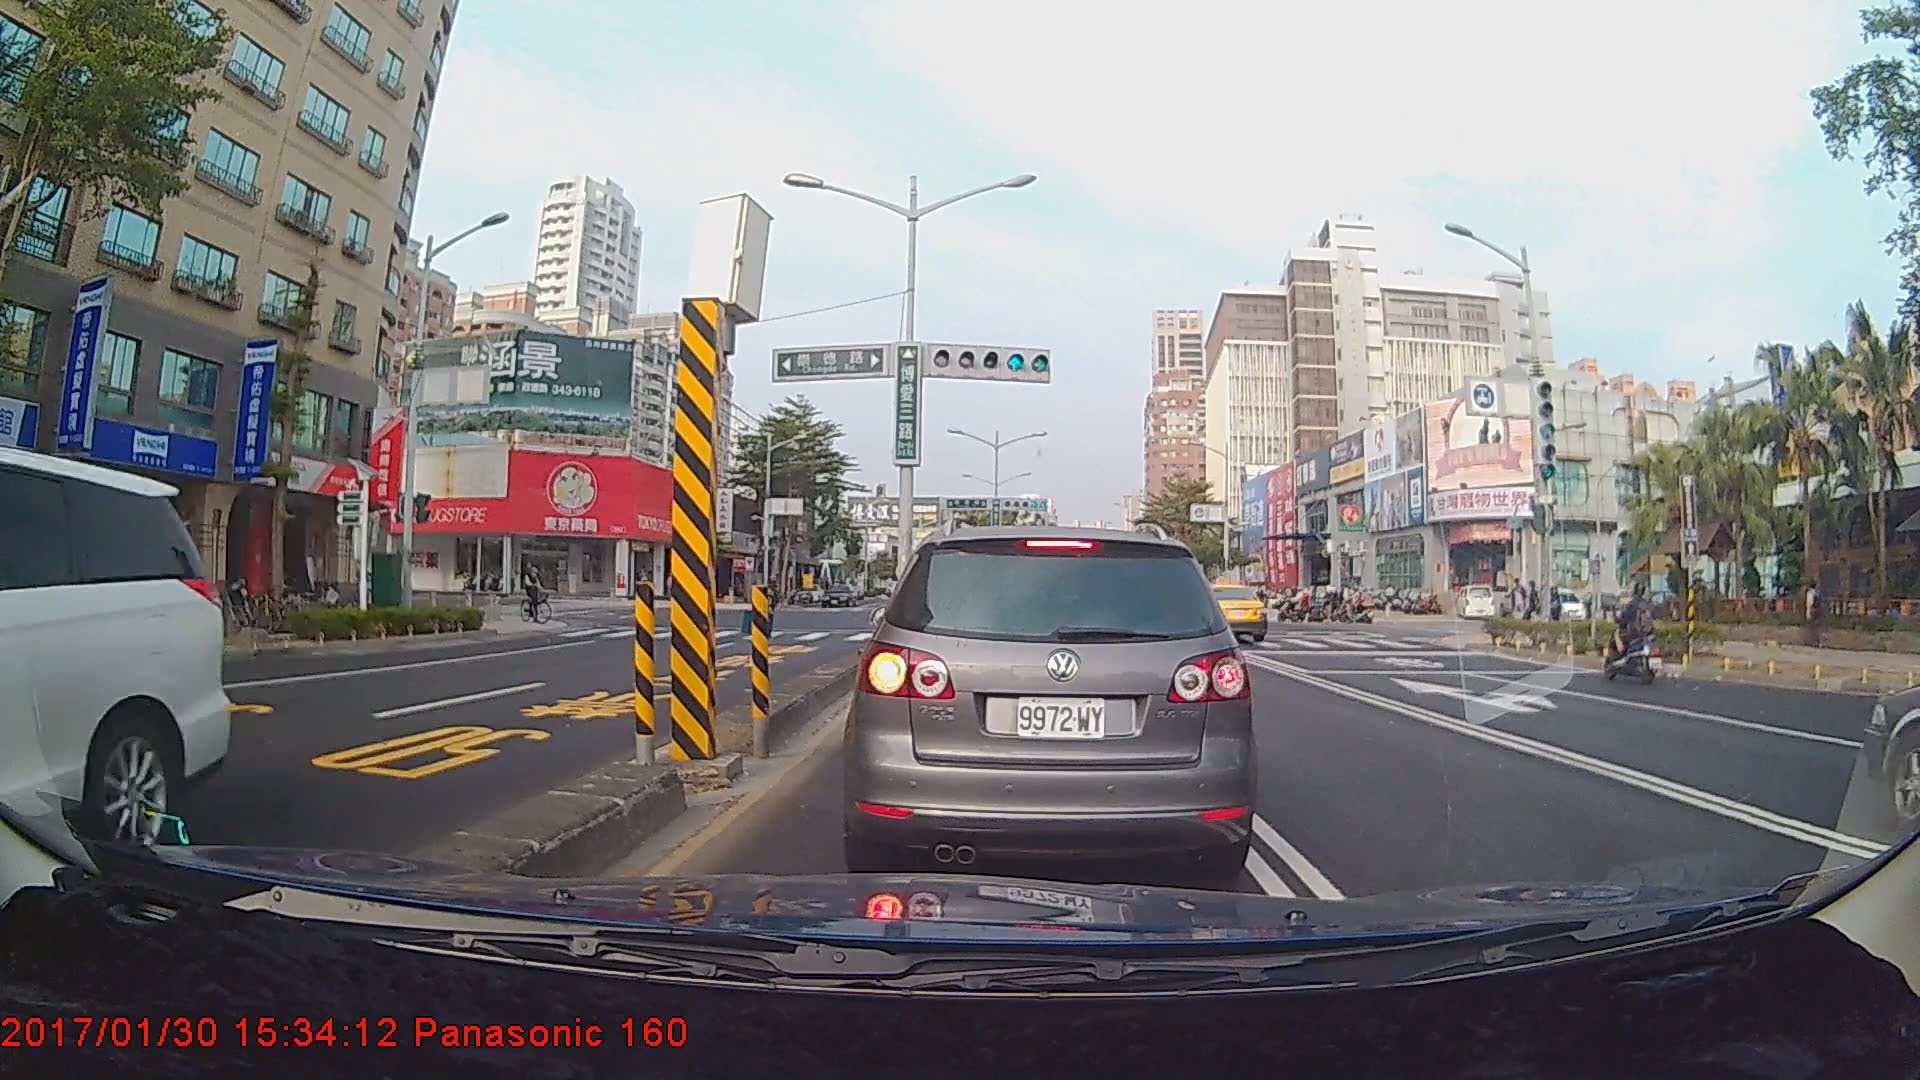pedestrian: (1802, 579, 1827, 647)
rider: (1601, 580, 1666, 687), (518, 559, 561, 629)
vehicle: (856, 523, 1246, 877), (0, 443, 227, 922), (1178, 581, 1269, 641)
